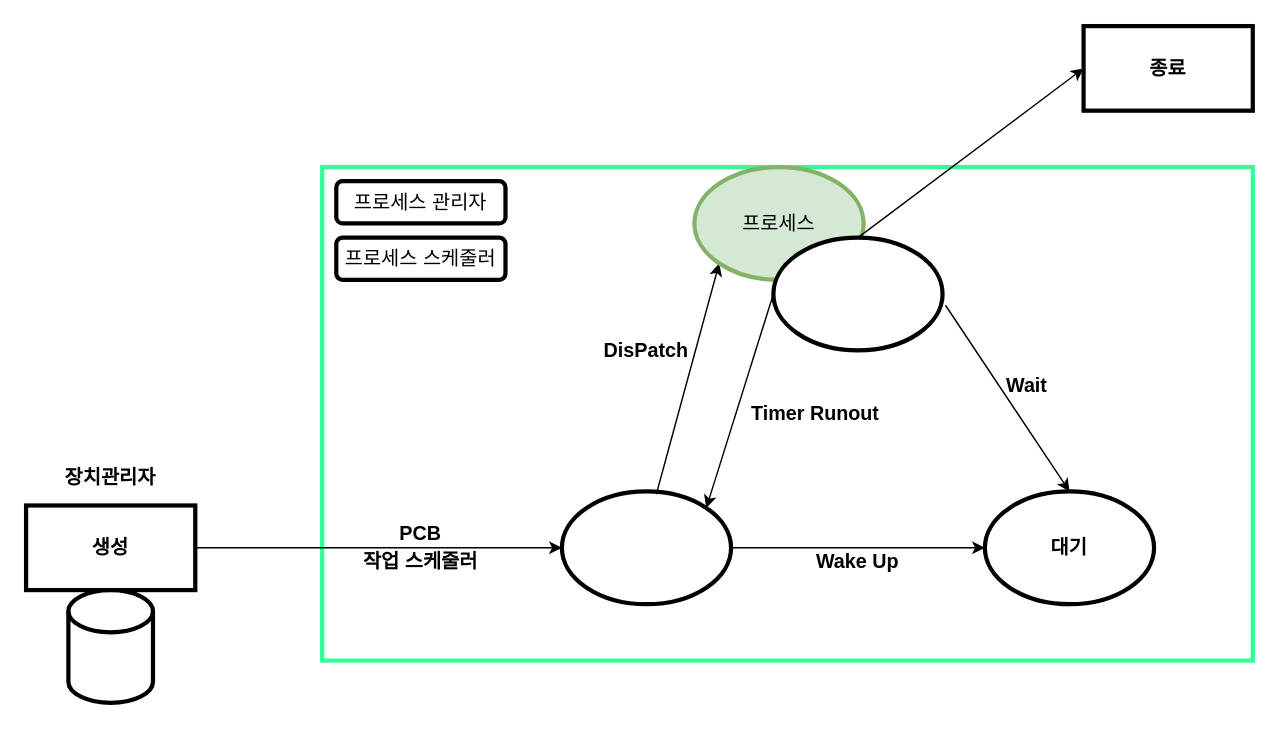
This 1279x729 diagram has some shape labels left out. Here are the shapes that lost their labels. From the top down, the box of each, then its label:
(771, 235, 944, 352): 실행 상태
(559, 489, 732, 606): 준비 상태
(66, 587, 154, 704): 디스크
